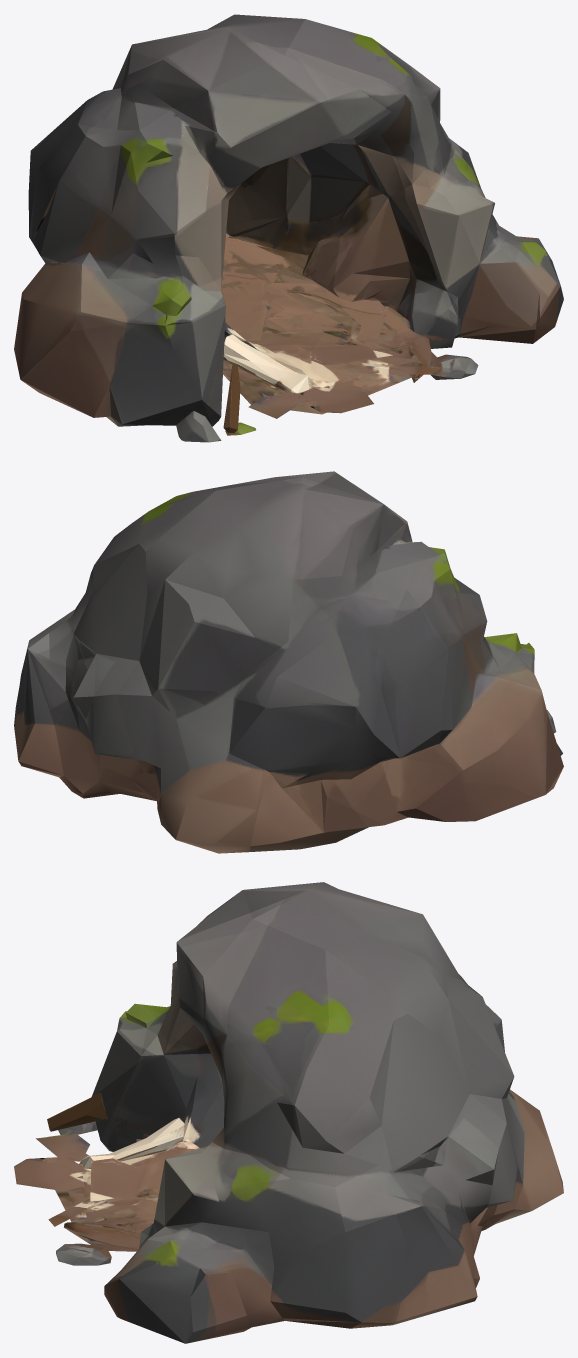
Rendered from wolfs-den.glb.
3 renders of one model, top to bottom at view 1: azimuth 30°, elevation 25°; view 2: azimuth 150°, elevation 25°; view 3: azimuth 270°, elevation 25°, orthographic. The views are drawn at different scales.
Parts seen in each view (by area): view 1: output_unwrapped; view 2: output_unwrapped; view 3: output_unwrapped.
Boxes of the visible parts, bbox=[...] form: output_unwrapped: bbox=[14, 14, 563, 442]; output_unwrapped: bbox=[14, 471, 563, 853]; output_unwrapped: bbox=[14, 882, 563, 1343].
Bounding box in the file's own units: 1.91 × 1.09 × 1.69.
1 material, 1 textured.
